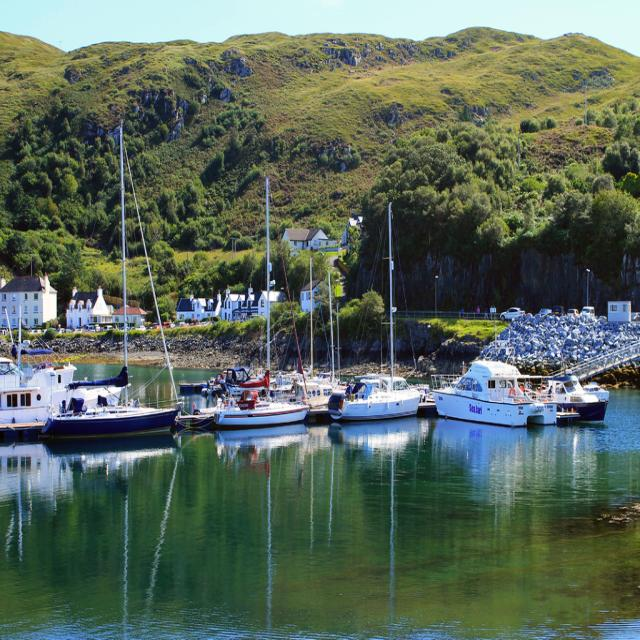Boat: (210, 181, 308, 429), (332, 197, 423, 422), (2, 358, 218, 439), (431, 349, 558, 428), (536, 356, 612, 424)
